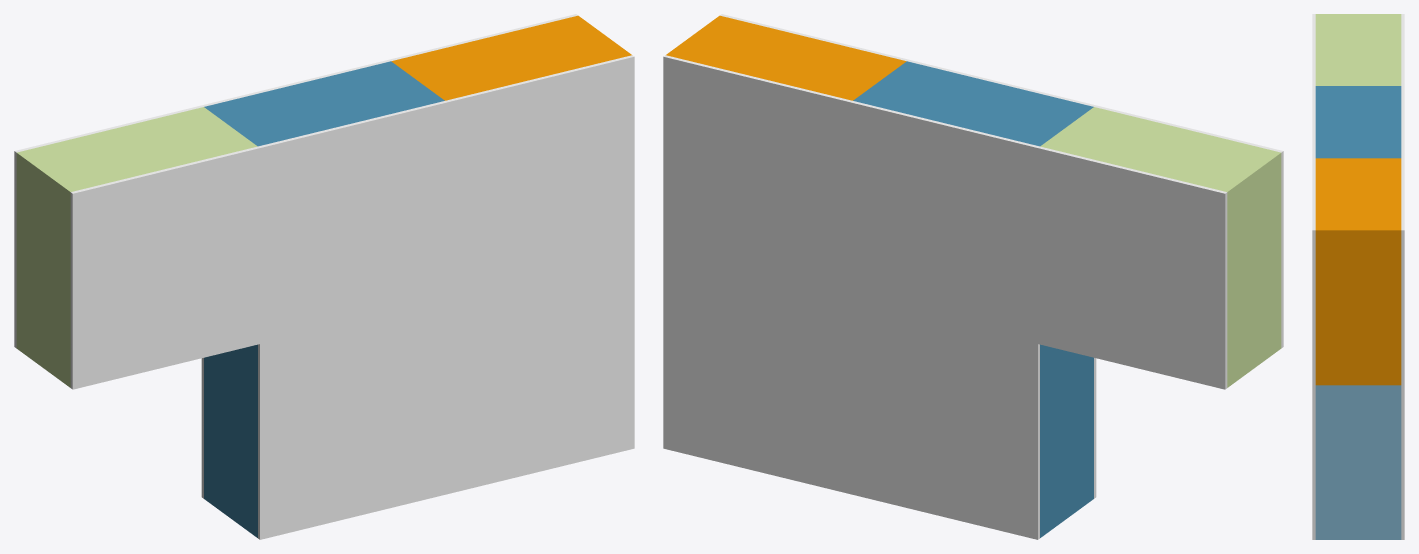
The model's file is FigurarEnviroment.gltf.
The picture shows the model from 3 angles, left to right: view 1: azimuth 30°, elevation 25°; view 2: azimuth 150°, elevation 25°; view 3: azimuth 270°, elevation 25°; orthographic projection. The views are drawn at different scales.
Parts seen in each view (by area): view 1: Room_2_Roof, Room_4_Roof, Room_3_Roof, Room_1_Roof, Room_4_Walls, Room_2_Walls, Room_3_Walls, Room_4_Floor, Room_2_Floor; view 2: Room_2_Floor, Room_4_Floor, Room_3_Floor, Room_1_Floor, Room_4_Walls, Room_2_Walls, Room_3_Walls, Room_4_Roof, Room_2_Roof; view 3: Room_3_Walls, Room_1_Wall, Room_2_Walls, Room_4_Walls, Room_3_Roof, Room_3_Floor, Room_1_Floor, Room_1_Roof, Room_2_Floor, Room_2_Roof, Room_4_Floor, Room_4_Roof.
Boxes of the visible parts, left/top/right/bottom form: Room_2_Roof: left=258, top=101, right=447, bottom=539; Room_4_Roof: left=70, top=146, right=259, bottom=389; Room_3_Roof: left=445, top=55, right=634, bottom=298; Room_1_Roof: left=447, top=252, right=634, bottom=494; Room_4_Walls: left=16, top=107, right=257, bottom=387; Room_2_Walls: left=204, top=61, right=444, bottom=537; Room_3_Walls: left=391, top=15, right=631, bottom=100; Room_4_Floor: left=14, top=105, right=203, bottom=348; Room_2_Floor: left=201, top=59, right=390, bottom=498; Room_2_Floor: left=850, top=101, right=1039, bottom=539; Room_4_Floor: left=1038, top=146, right=1227, bottom=389; Room_3_Floor: left=663, top=55, right=852, bottom=298; Room_1_Floor: left=663, top=252, right=850, bottom=494; Room_4_Walls: left=1040, top=107, right=1281, bottom=387; Room_2_Walls: left=853, top=61, right=1093, bottom=537; Room_3_Walls: left=666, top=15, right=906, bottom=100; Room_4_Roof: left=1094, top=105, right=1283, bottom=348; Room_2_Roof: left=907, top=59, right=1096, bottom=498; Room_3_Walls: left=1315, top=158, right=1401, bottom=385; Room_1_Wall: left=1315, top=385, right=1401, bottom=539; Room_2_Walls: left=1315, top=86, right=1401, bottom=158; Room_4_Walls: left=1315, top=14, right=1401, bottom=85; Room_3_Roof: left=1312, top=158, right=1315, bottom=385; Room_3_Floor: left=1401, top=158, right=1404, bottom=385; Room_1_Floor: left=1401, top=385, right=1404, bottom=539; Room_1_Roof: left=1312, top=385, right=1315, bottom=539; Room_2_Floor: left=1401, top=86, right=1404, bottom=158; Room_2_Roof: left=1312, top=86, right=1315, bottom=158; Room_4_Floor: left=1401, top=14, right=1404, bottom=85; Room_4_Roof: left=1312, top=14, right=1315, bottom=85.
Size of what is drawn, in the model's own units: 15 by 10 by 2.7.
8 materials, 4 textured.
